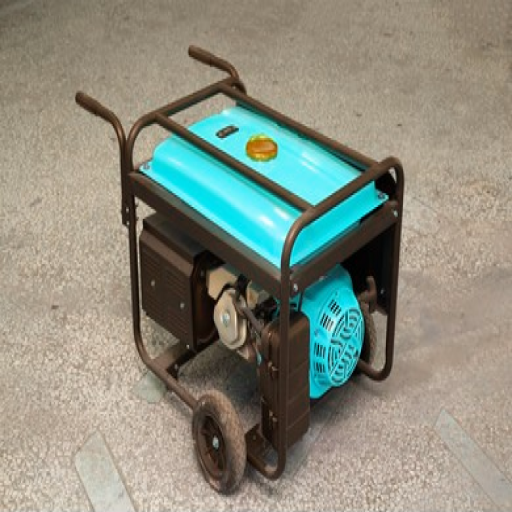portable_generator: (126, 77, 404, 480)
